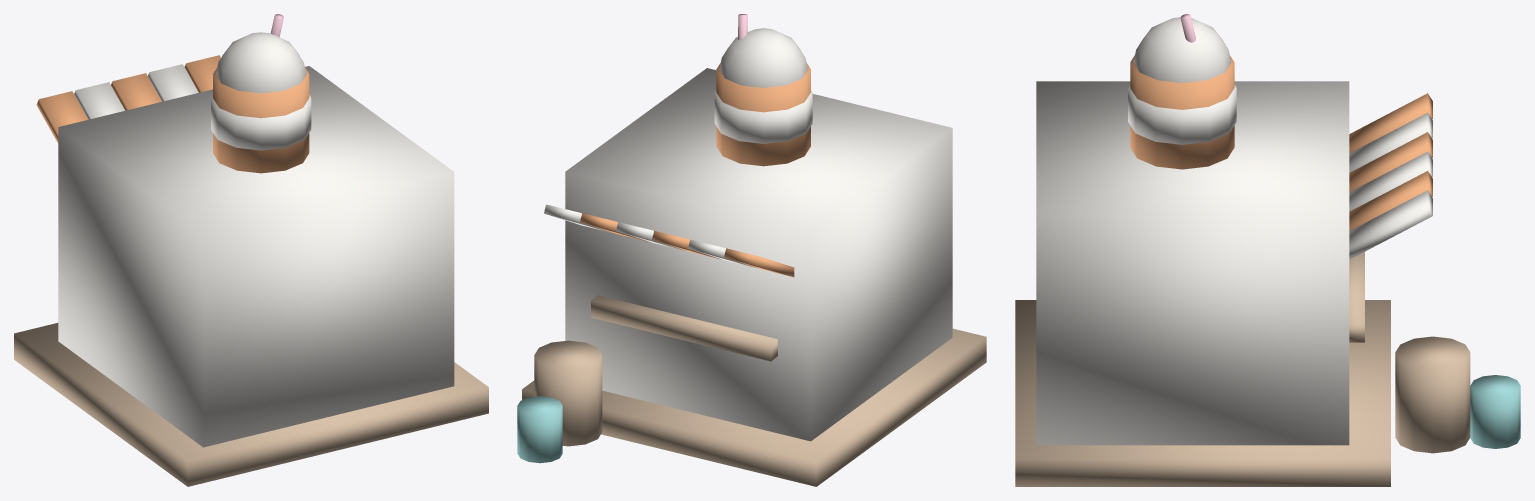
The model's file is thai_tea_shop.glb.
3 views of the same model, side by side, from view 1: azimuth 30°, elevation 25°; view 2: azimuth 150°, elevation 25°; view 3: azimuth 270°, elevation 25° (orthographic). The views are drawn at different scales.
Parts seen in each view (by area): view 1: shop_base, shop_deck, roof_cup, roof_tea_top, roof_cup_sleeve, awning_stripe_0, awning_stripe_2, awning_stripe_1, awning_stripe_3, awning_stripe_4; view 2: shop_base, shop_deck, outdoor_table, roof_cup, counter_sill, roof_tea_top, roof_cup_sleeve, outdoor_stool, awning_stripe_0, awning_stripe_3; view 3: shop_base, shop_deck, outdoor_table, roof_cup, roof_tea_top, roof_cup_sleeve, outdoor_stool, awning_stripe_5, awning_stripe_1, awning_stripe_3, awning_stripe_0, awning_stripe_2 (+2 smaller).
Boxes of the visible parts, <box> form: shop_base: <box>58,66,454,447</box>; shop_deck: <box>14,323,488,486</box>; roof_cup: <box>213,67,309,173</box>; roof_tea_top: <box>216,32,306,93</box>; roof_cup_sleeve: <box>211,95,311,150</box>; awning_stripe_0: <box>36,91,87,143</box>; awning_stripe_2: <box>111,73,161,110</box>; awning_stripe_1: <box>74,82,124,119</box>; awning_stripe_3: <box>148,64,198,101</box>; awning_stripe_4: <box>184,55,220,92</box>; shop_base: <box>565,68,952,441</box>; shop_deck: <box>522,328,986,486</box>; outdoor_table: <box>534,340,602,446</box>; roof_cup: <box>716,63,810,166</box>; counter_sill: <box>591,295,777,361</box>; roof_tea_top: <box>719,28,807,87</box>; roof_cup_sleeve: <box>714,90,812,143</box>; outdoor_stool: <box>517,396,562,463</box>; awning_stripe_0: <box>724,248,794,277</box>; awning_stripe_3: <box>616,222,685,250</box>; shop_base: <box>1036,81,1349,445</box>; shop_deck: <box>1015,300,1390,486</box>; outdoor_table: <box>1395,336,1470,453</box>; roof_cup: <box>1130,55,1234,169</box>; roof_tea_top: <box>1133,17,1231,82</box>; roof_cup_sleeve: <box>1128,85,1236,144</box>; outdoor_stool: <box>1470,375,1520,448</box>; awning_stripe_5: <box>1349,190,1432,259</box>; awning_stripe_1: <box>1349,112,1432,172</box>; awning_stripe_3: <box>1349,151,1432,211</box>; awning_stripe_0: <box>1349,93,1432,153</box>; awning_stripe_2: <box>1349,132,1432,192</box>.
Size of the model in its own units: 1.8 by 2.13 by 2.42.
